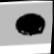correct: (12, 9, 48, 38)
